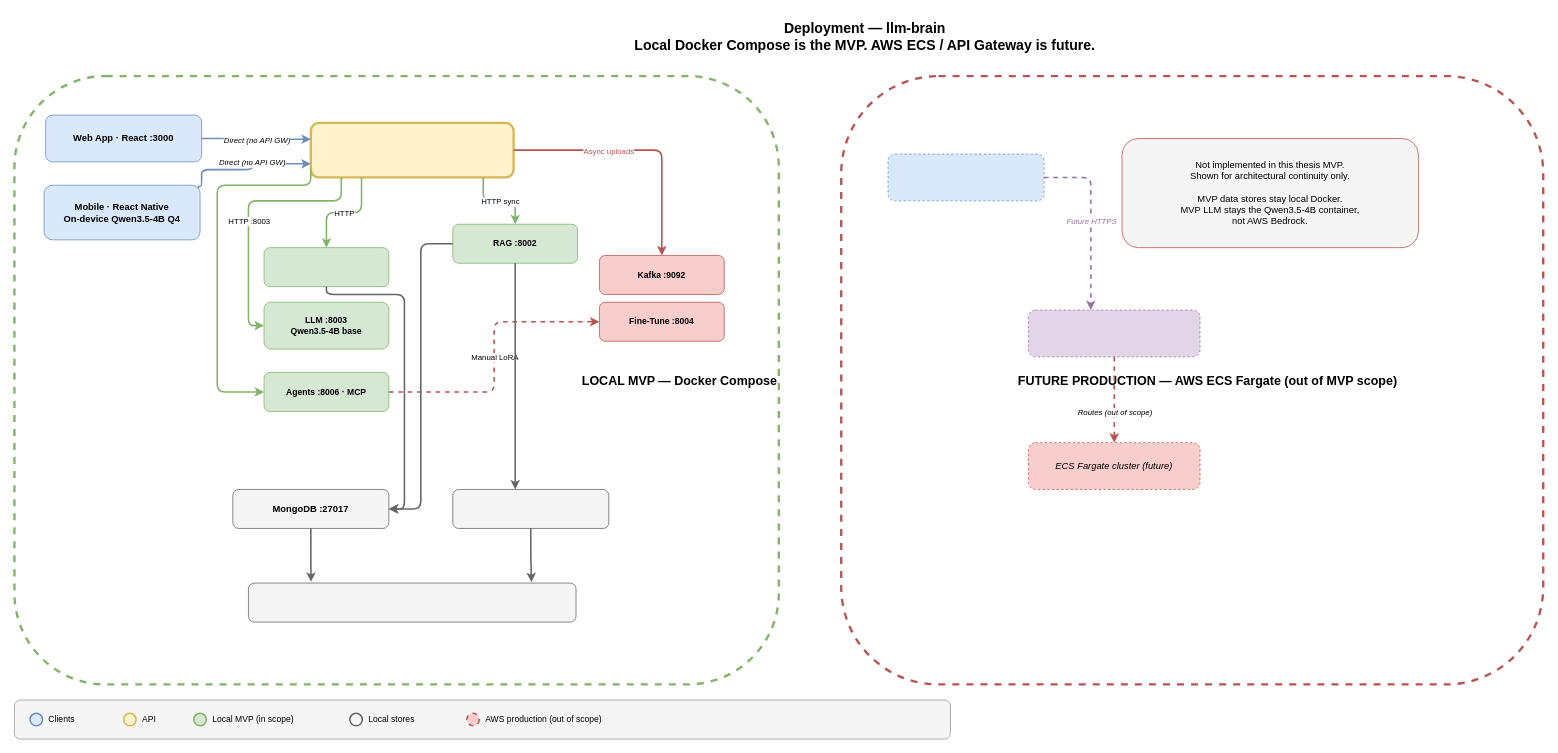
This 1558x753 diagram has some shape labels left out. Here are the shapes that lost their labels. From the top down, the box of each, then its label:
(309, 121, 514, 178): API (apps/api + Router) :8000
(887, 153, 1044, 201): Web / Mobile (future)
(263, 247, 389, 287): ETL :8001
(1028, 309, 1200, 357): API Gateway (future)
(452, 489, 609, 528): Chroma host :8005
(248, 582, 576, 622): Volumes: mongo_data · chroma_data · kafka_data · .env
